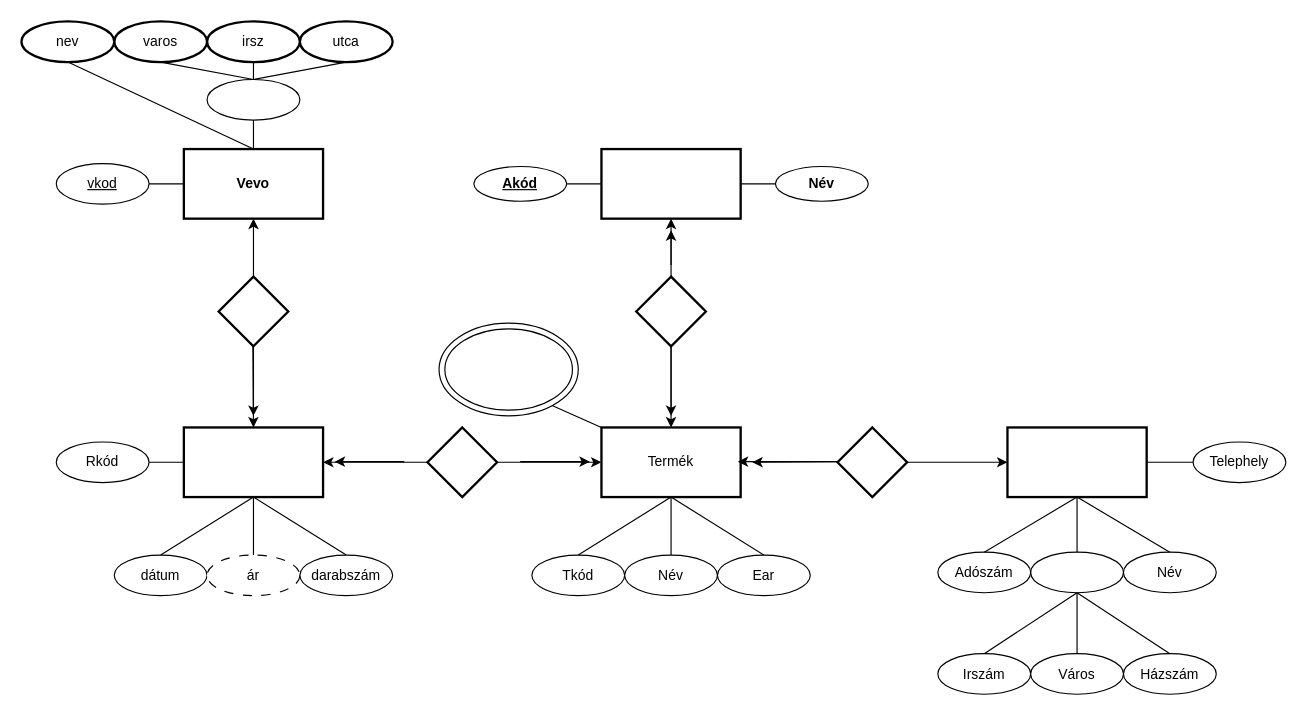
Image size: 1306x715. Some labels were removed from this diagram. Here are the shapes that lost their labels. From the top down, the centre of each, then its label:
At pixel 253 99: "Lakcím".
At pixel 670 183: "Alkatrész".
At pixel 253 311: "R.V".
At pixel 670 311: "T_A".
At pixel 508 369: "Egység_db".
At pixel 253 462: "Rendelés".
At pixel 462 462: "R-T".
At pixel 872 462: "T-GY".
At pixel 1076 462: "Gyártó".
At pixel 1076 572: "Postaicím".
